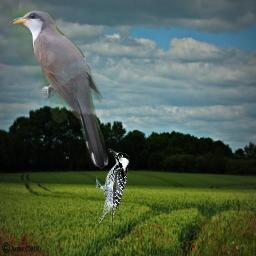Cuckoo: (9, 8, 112, 170)
Woodpecker: (96, 148, 130, 225)
